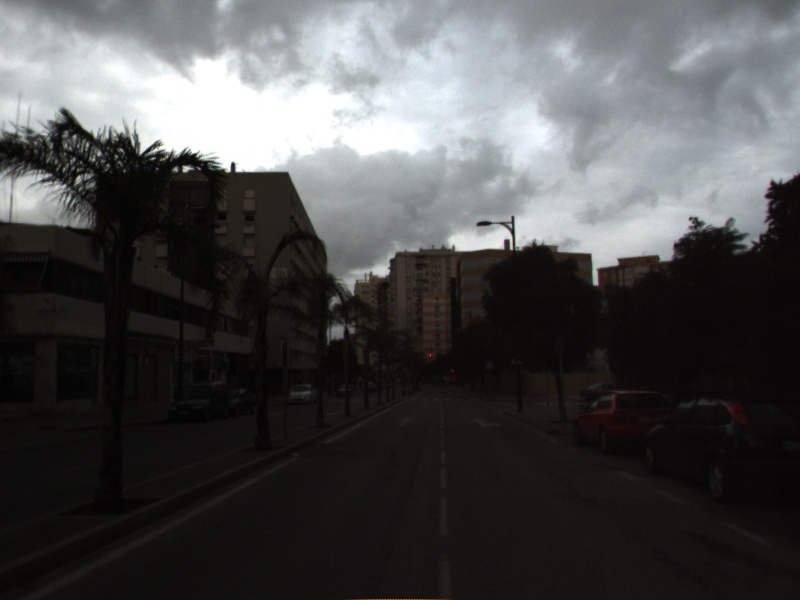STRAIGHT: (396, 415, 416, 428)
STRAIGHT_RIGHT: (469, 415, 503, 429)
